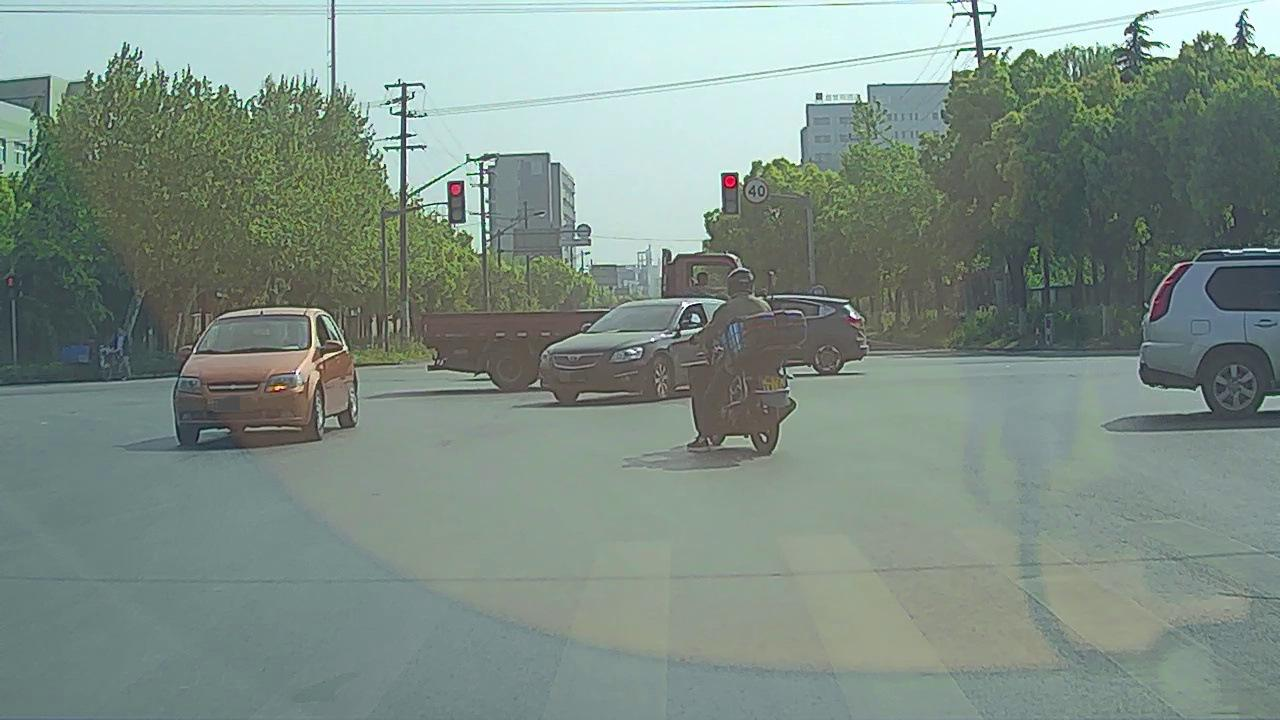traffic_light: (448, 181, 465, 222), (723, 172, 739, 213)
